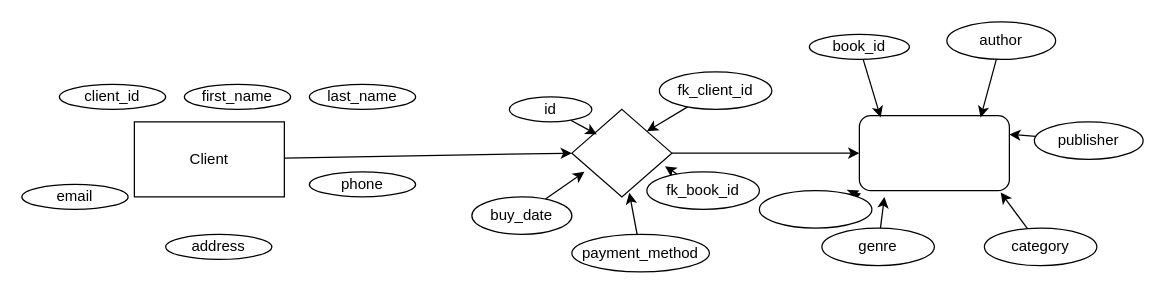
The diagram is 1165 pixels wide and 294 high, and some of its shapes have lost their labels. The shapes that lost their labels are listed below. From the top down, each one's centre as x and y in pixels, then its label:
At [621,152]: "buy".
At [933,152]: "books".
At [815,208]: "titel".
